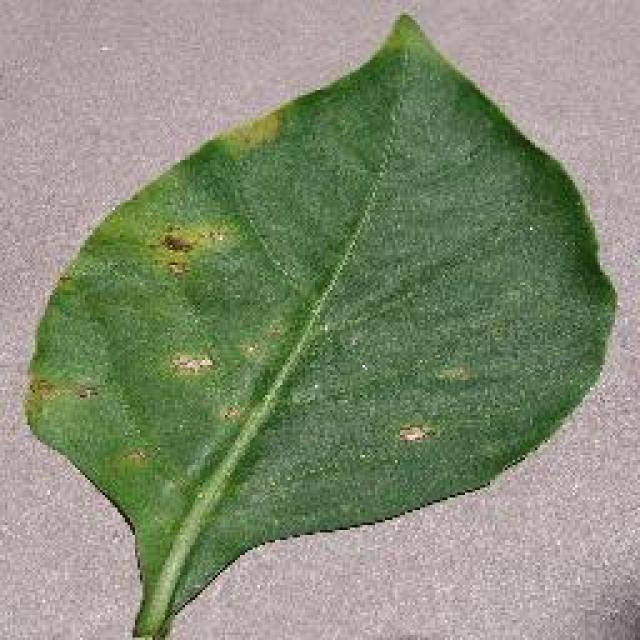Chilli_Bacterial_Spot: (18, 10, 620, 638), (143, 215, 245, 385), (388, 358, 482, 450), (142, 215, 238, 283), (212, 102, 288, 160), (162, 345, 218, 380), (430, 360, 480, 390), (155, 228, 195, 258), (393, 420, 435, 448), (22, 373, 58, 405)
